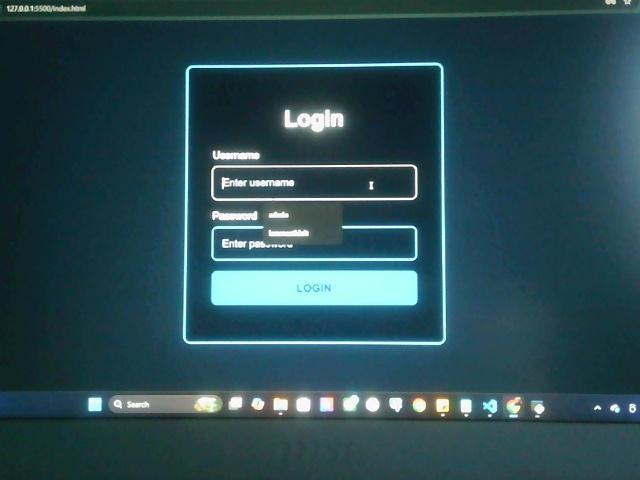login_button: (211, 269, 418, 306)
login_form: (184, 63, 446, 345)
password_input: (212, 226, 418, 262)
title_text: (282, 106, 346, 134)
username_input: (211, 164, 418, 200)
